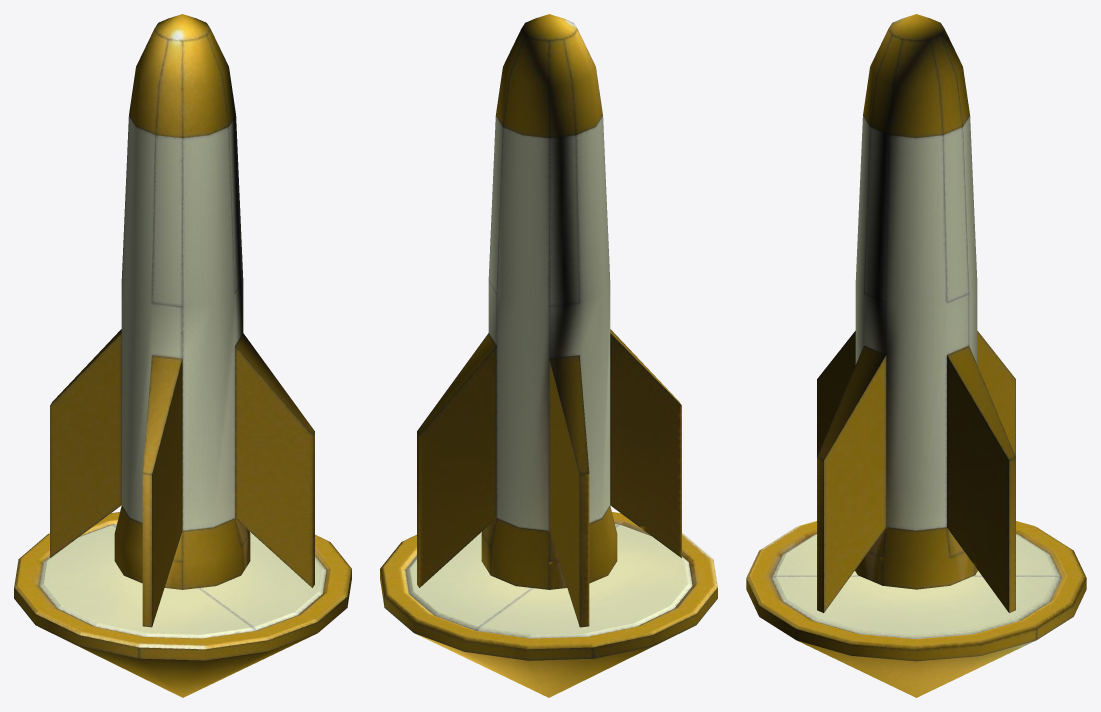
File: missile.obj
3 renders of one model, left to right at view 1: azimuth 30°, elevation 25°; view 2: azimuth 150°, elevation 25°; view 3: azimuth 270°, elevation 25°, orthographic.
Parts seen in each view (by area): view 1: Cylinder004; view 2: Cylinder004; view 3: Cylinder004.
Boxes of the visible parts, left/top/right/bottom form: Cylinder004: left=14, top=14, right=351, bottom=697; Cylinder004: left=380, top=14, right=717, bottom=697; Cylinder004: left=746, top=14, right=1086, bottom=697.
Size of the model in its own units: 30.39 by 67.34 by 30.39.
1 material, 1 textured.
